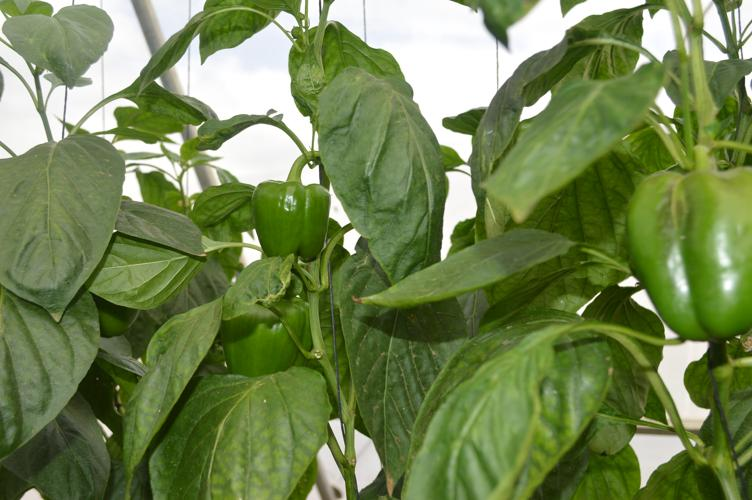BellPepper: (623, 167, 748, 340), (215, 301, 329, 377), (251, 179, 330, 258)
